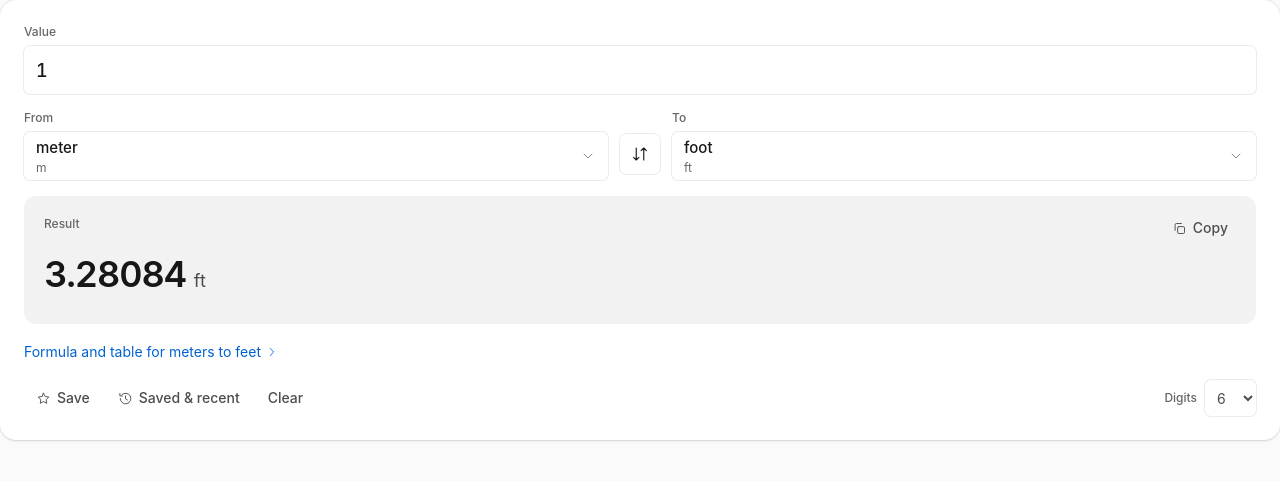
converter workflow › shows an inline error for malformed input and no stale result
Replace the text in the field named "Value in" with "abc". click: (640, 70)
box: [24,46,1256,94]
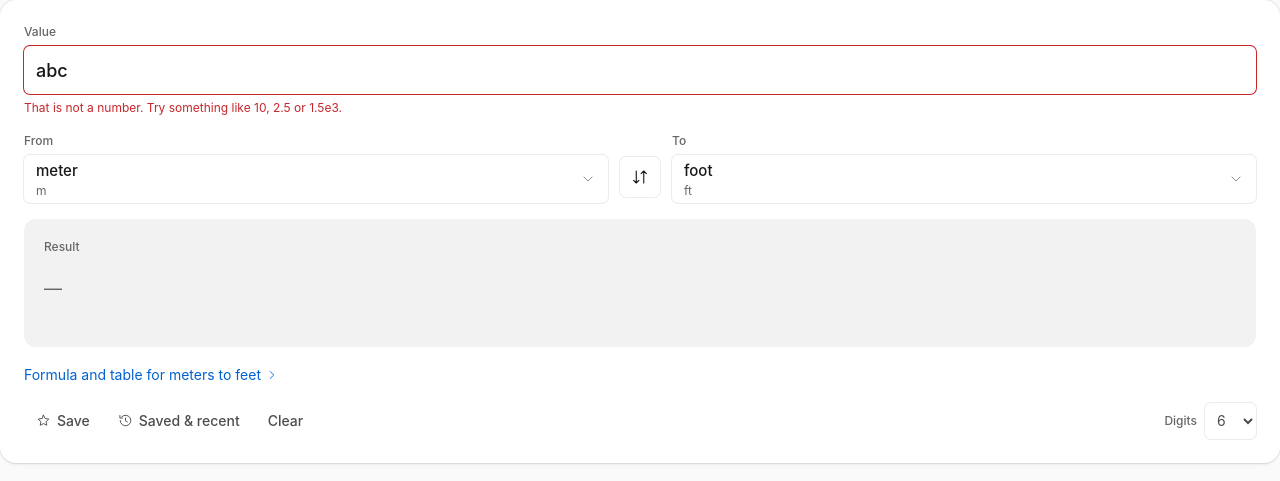
expect the message shows "not a number": met, box [24,100,342,115]
